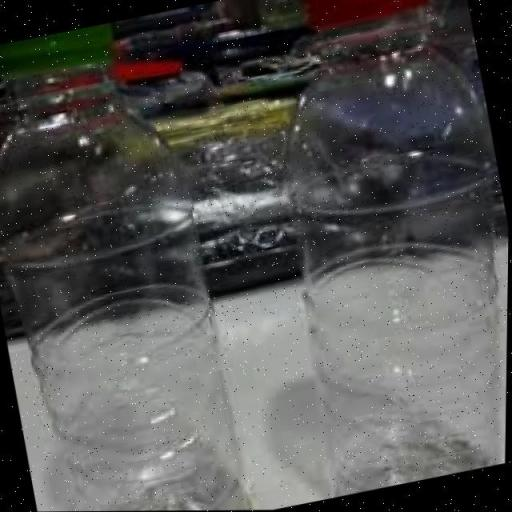plastic: (0, 14, 274, 512), (245, 0, 512, 495)
